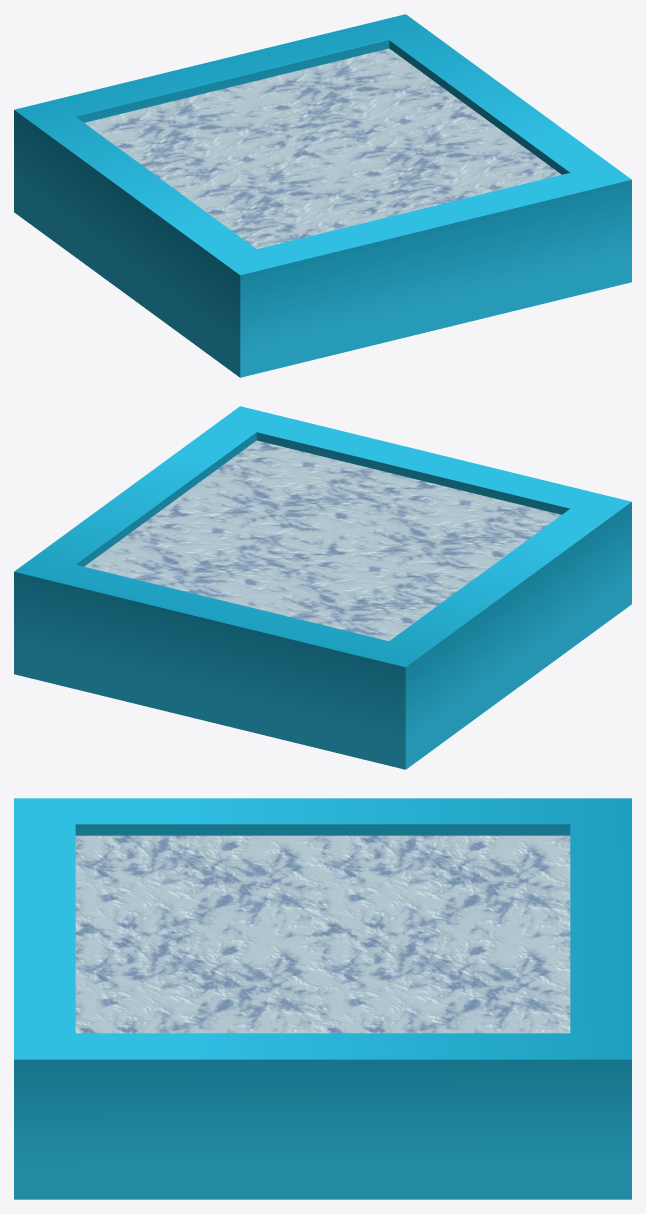
File: TILE_008_ShortcutRoad.fbx
3 views of the same model, one above another, from view 1: azimuth 30°, elevation 25°; view 2: azimuth 150°, elevation 25°; view 3: azimuth 270°, elevation 25° (orthographic). The views are drawn at different scales.
Visible parts, largest first — view 1: TILE_001_ShortcutRoad; view 2: TILE_001_ShortcutRoad; view 3: TILE_001_ShortcutRoad.
Boxes of the visible parts, <box> form: TILE_001_ShortcutRoad: <box>14,14,631,377</box>; TILE_001_ShortcutRoad: <box>14,406,631,769</box>; TILE_001_ShortcutRoad: <box>14,798,631,1199</box>.
Bounding box in the file's own units: 98.43 × 24.61 × 98.43.
